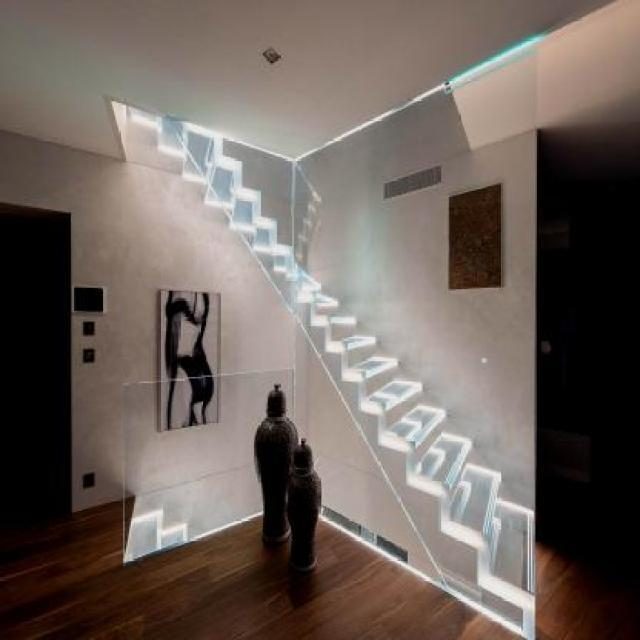stair: (300, 155, 556, 611), (162, 116, 296, 284)
